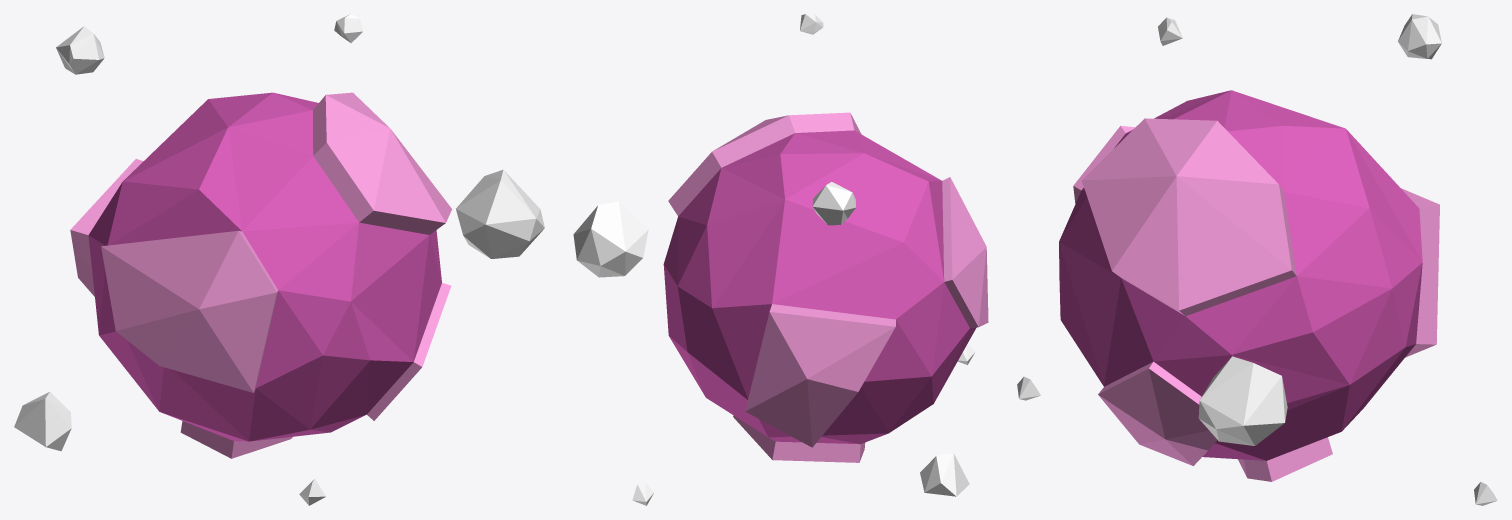
The model's file is Planet_07_b.fbx.
The picture shows the model from 3 angles, left to right: view 1: azimuth 30°, elevation 25°; view 2: azimuth 150°, elevation 25°; view 3: azimuth 270°, elevation 25°; orthographic projection. The views are drawn at different scales.
Visible parts, largest first — view 1: Planet_09; view 2: Planet_09; view 3: Planet_09.
Part boxes in pixels (x1=…): Planet_09: x1=14, y1=14, x2=544, y2=505; Planet_09: x1=573, y1=14, x2=988, y2=505; Planet_09: x1=1017, y1=14, x2=1497, y2=505.
Bounding box in the file's own units: 111 × 99.23 × 92.07.
